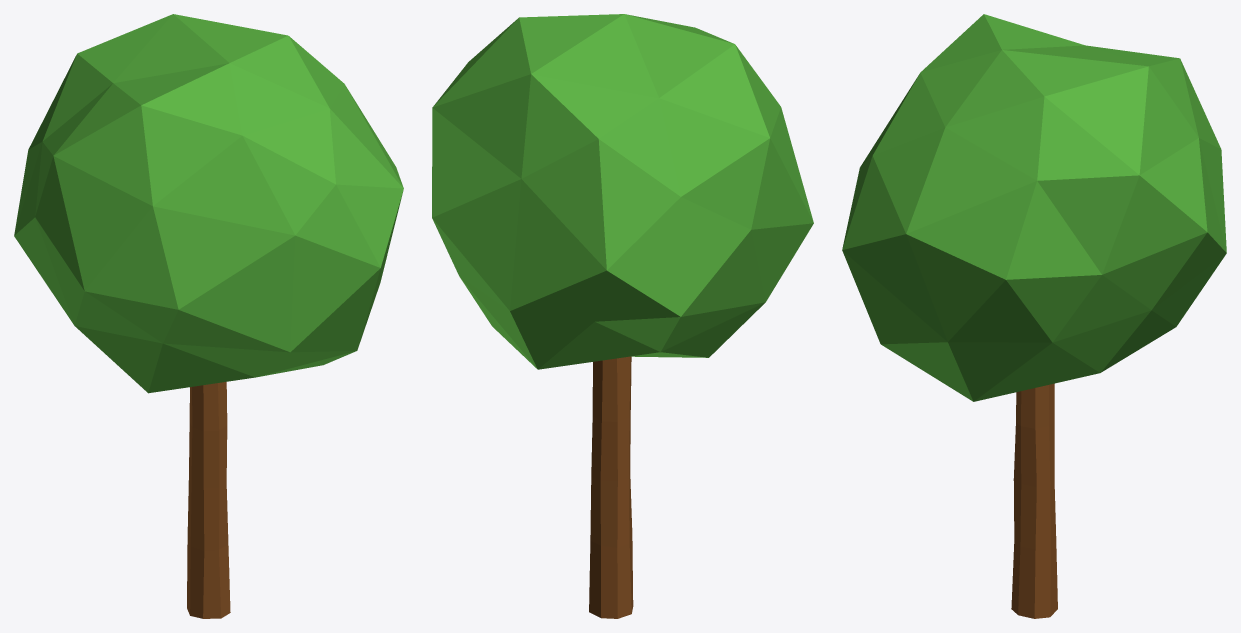
The model's file is tree8.fbx.
3 views of the same model, side by side, from view 1: azimuth 30°, elevation 25°; view 2: azimuth 150°, elevation 25°; view 3: azimuth 270°, elevation 25° (orthographic). The views are drawn at different scales.
Visible parts, largest first — view 1: tree.008; view 2: tree.008; view 3: tree.008.
Boxes of the visible parts, <box> form: tree.008: <box>14,14,403,618</box>; tree.008: <box>432,14,813,618</box>; tree.008: <box>842,14,1226,618</box>.
Bounding box in the file's own units: 2041 × 2037 × 3286.
